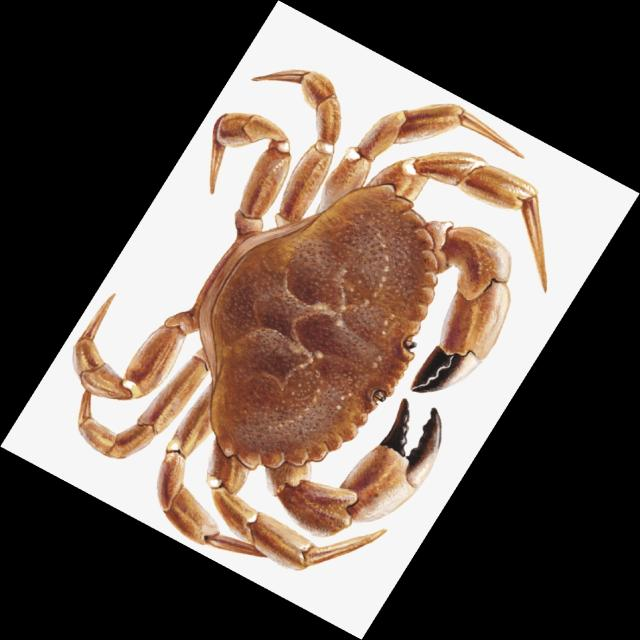Native Jonah crab: (73, 69, 546, 569)
